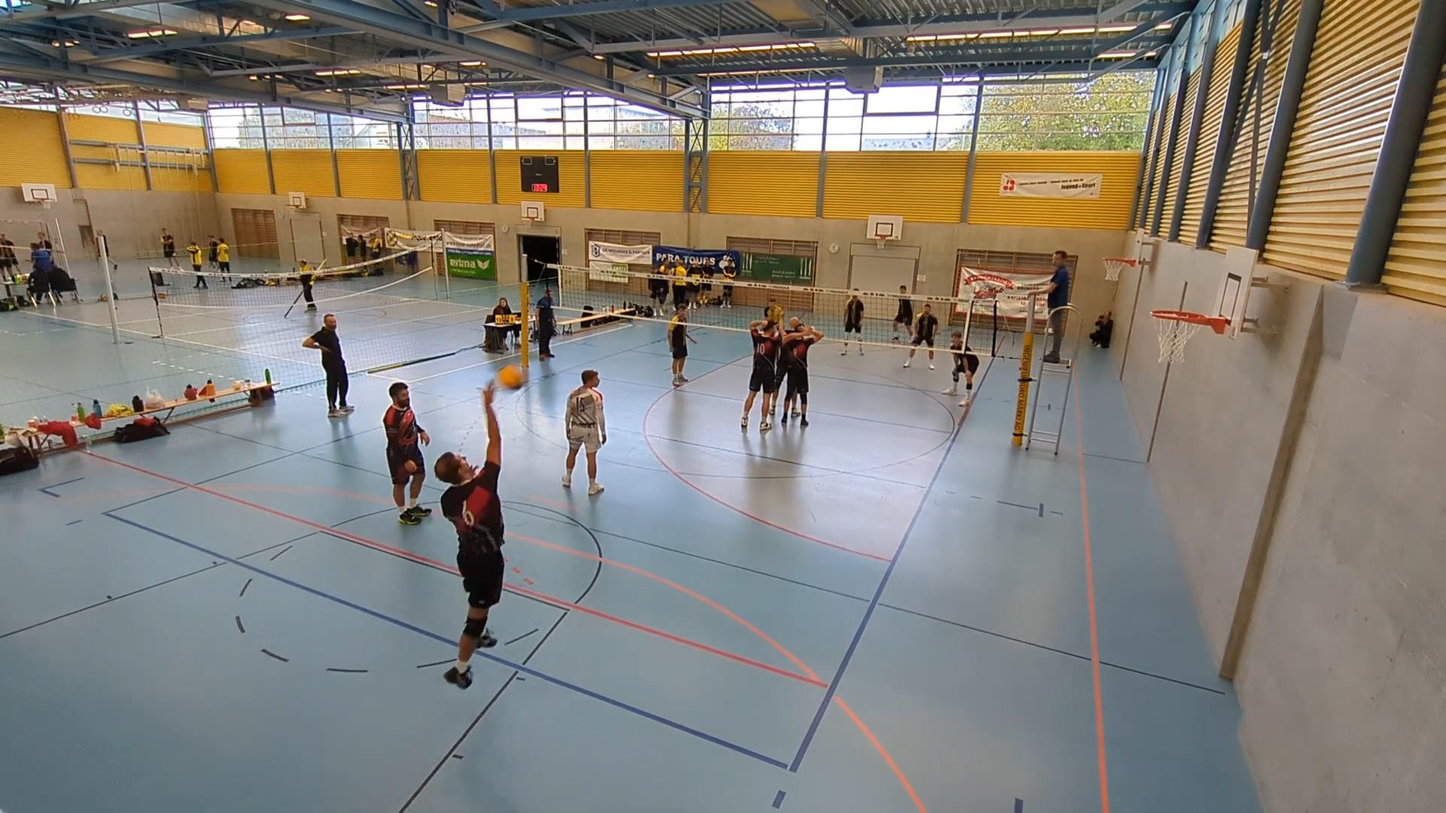Player: (383, 382, 431, 524), (562, 370, 606, 495), (781, 317, 824, 427), (740, 319, 781, 431), (943, 330, 978, 405), (903, 303, 938, 369), (668, 309, 696, 386), (840, 288, 864, 355), (892, 286, 913, 341), (764, 295, 784, 325)
Serve: (435, 379, 511, 688)
ball: (489, 363, 526, 388)
